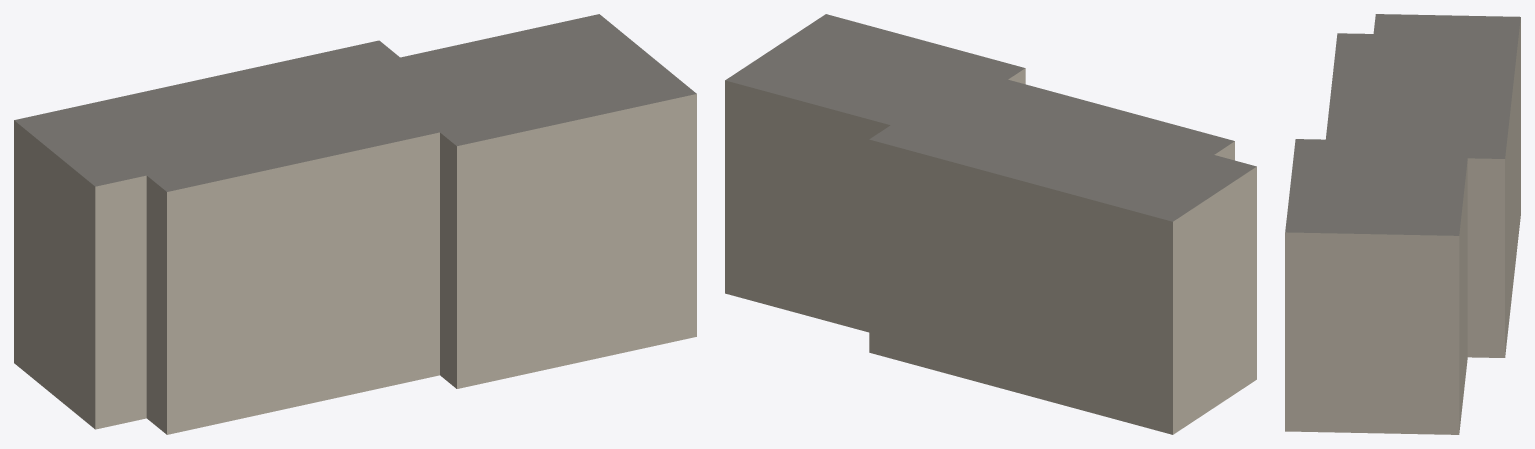
The picture shows the model from 3 angles, left to right: view 1: azimuth 30°, elevation 25°; view 2: azimuth 150°, elevation 25°; view 3: azimuth 270°, elevation 25°; orthographic projection. The views are drawn at different scales.
Parts seen in each view (by area): view 1: HP-w1435272421; view 2: HP-w1435272421; view 3: HP-w1435272421.
Boxes of the visible parts, left/top/right/bottom form: HP-w1435272421: left=14, top=14, right=696, bottom=434; HP-w1435272421: left=725, top=14, right=1256, bottom=434; HP-w1435272421: left=1285, top=14, right=1520, bottom=434.
Bounding box in the file's own units: 43.04 × 18 × 19.31.
